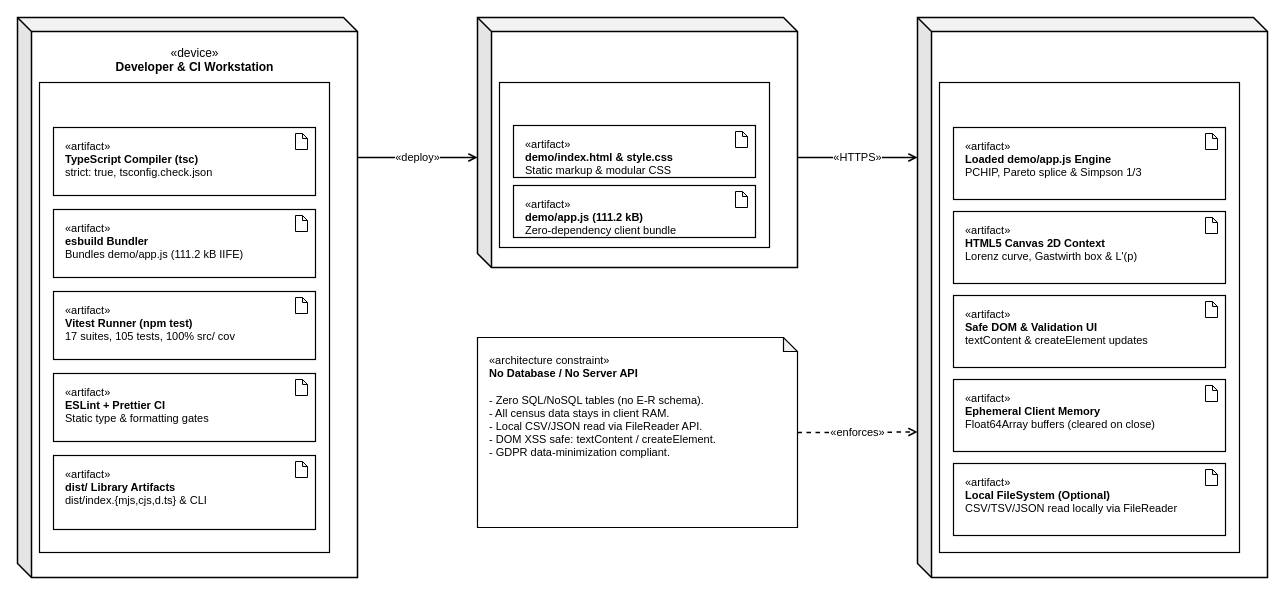
The diagram is 1286 pixels wide and 596 high, and some of its shapes have lost their labels. Here are the shapes that lost their labels. From the top down, the box of each, then its label:
(476, 16, 798, 268): «device» Static Web Host / CDN
(498, 81, 770, 248): «executionEnvironment» Static HTTP File Server
(38, 81, 330, 553): «executionEnvironment» Node.js >= 20 + npm
(938, 81, 1240, 553): «executionEnvironment» Web Browser (V8 / ES2022)
(916, 16, 1268, 578): «device» End-User Client Workstation
